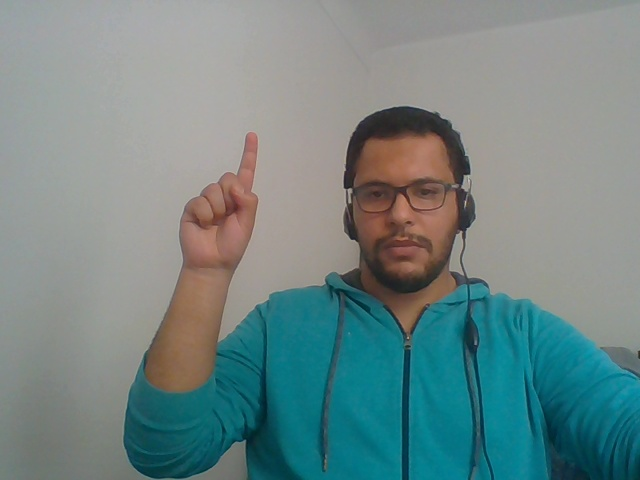handup: (159, 114, 277, 384)
